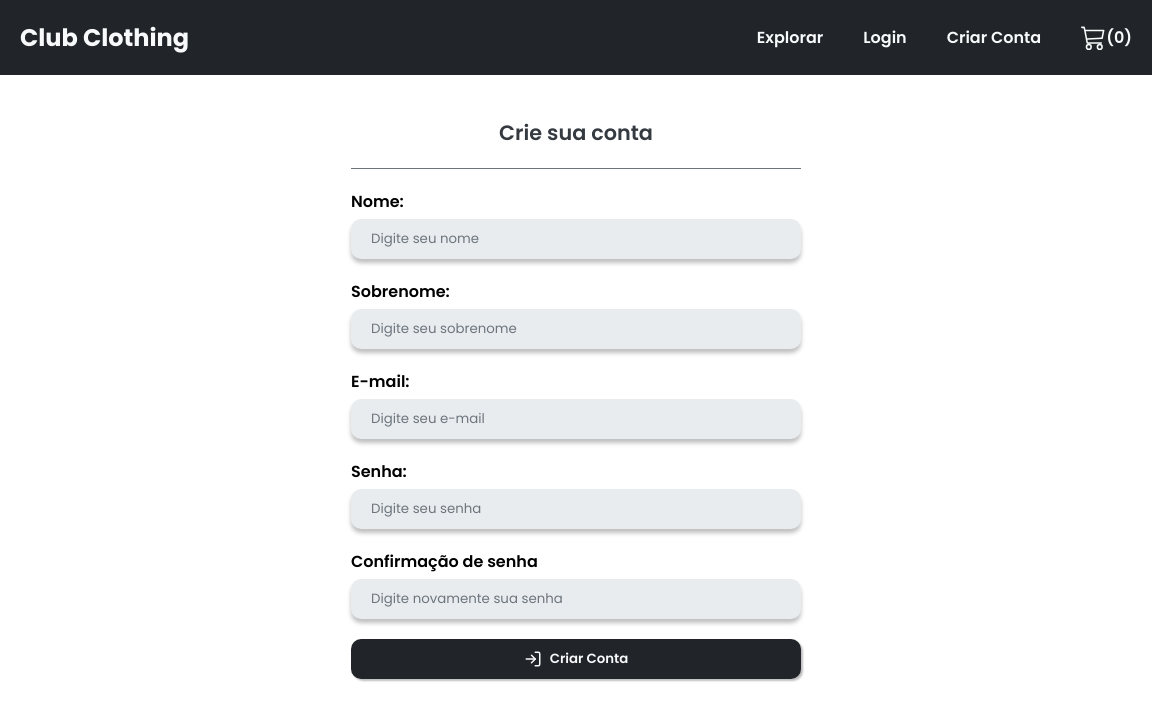
Sign Up › should show errors when password has less than 6 characteres
This screenshot has width=1152, height=720.
Type "123" into the password field with placeholder "Digite seu senha" at [576, 508], box x1=351 y1=488 x2=801 y2=528
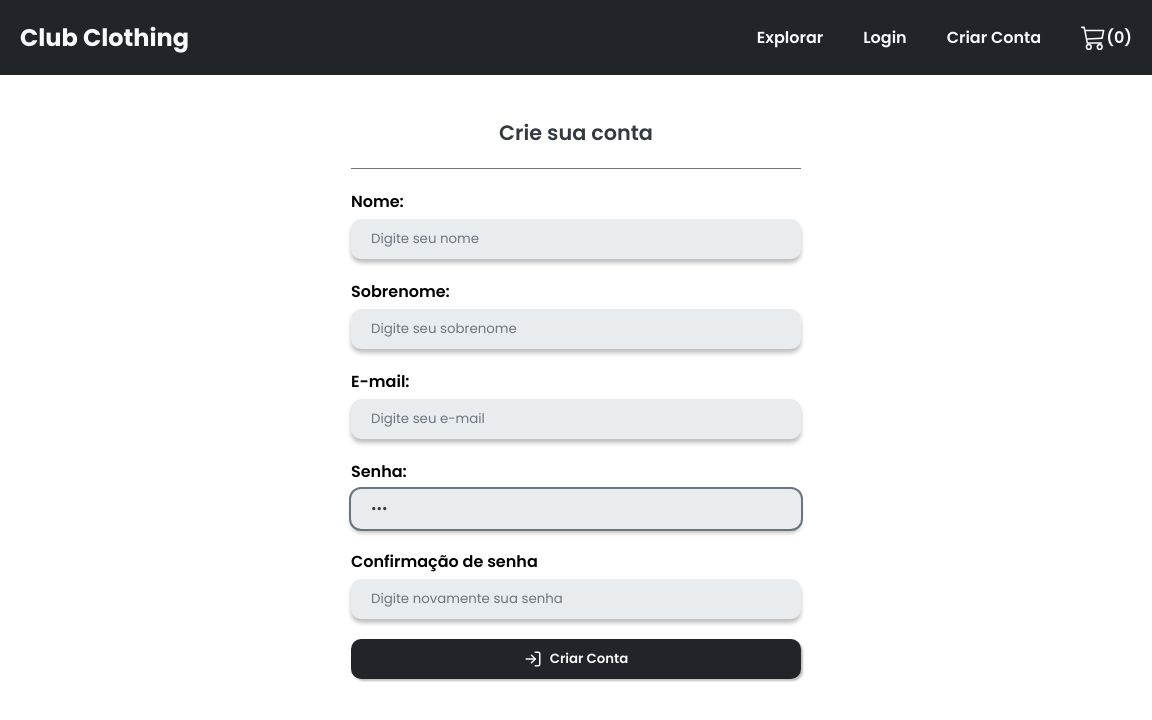
Type "123" into the password field with placeholder "Digite novamente sua senha" at [576, 598], box x1=351 y1=578 x2=801 y2=618
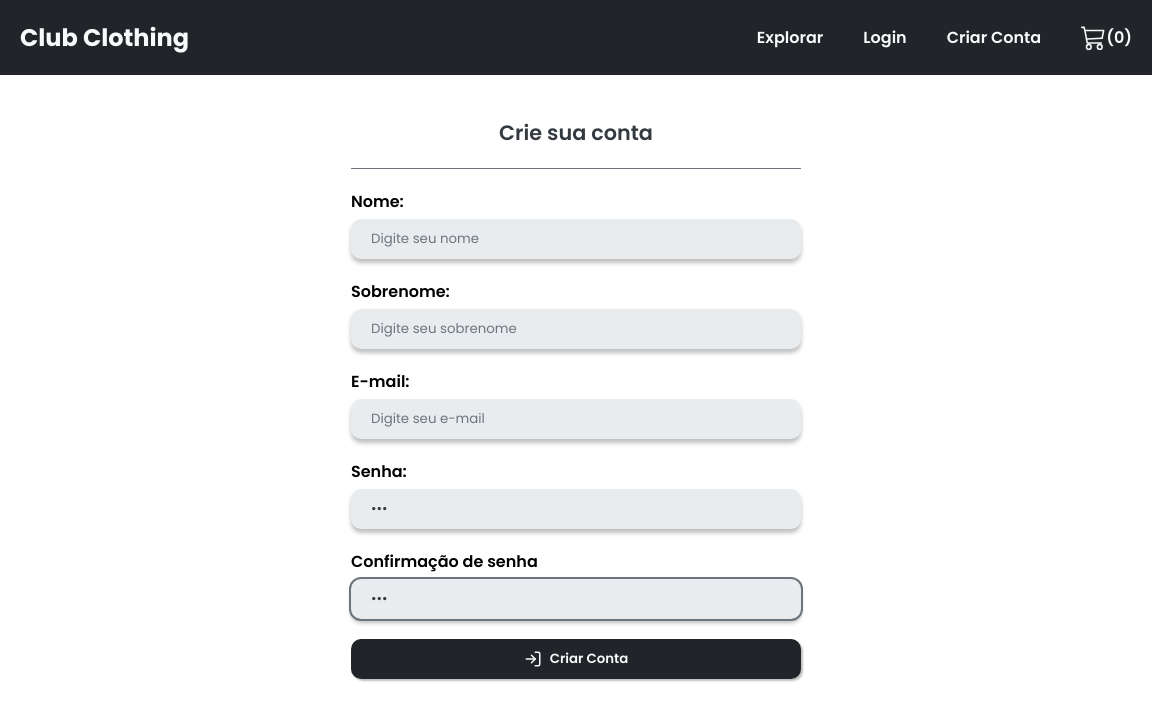
Click the button "Criar Conta" at [576, 658], box x1=351 y1=638 x2=801 y2=678
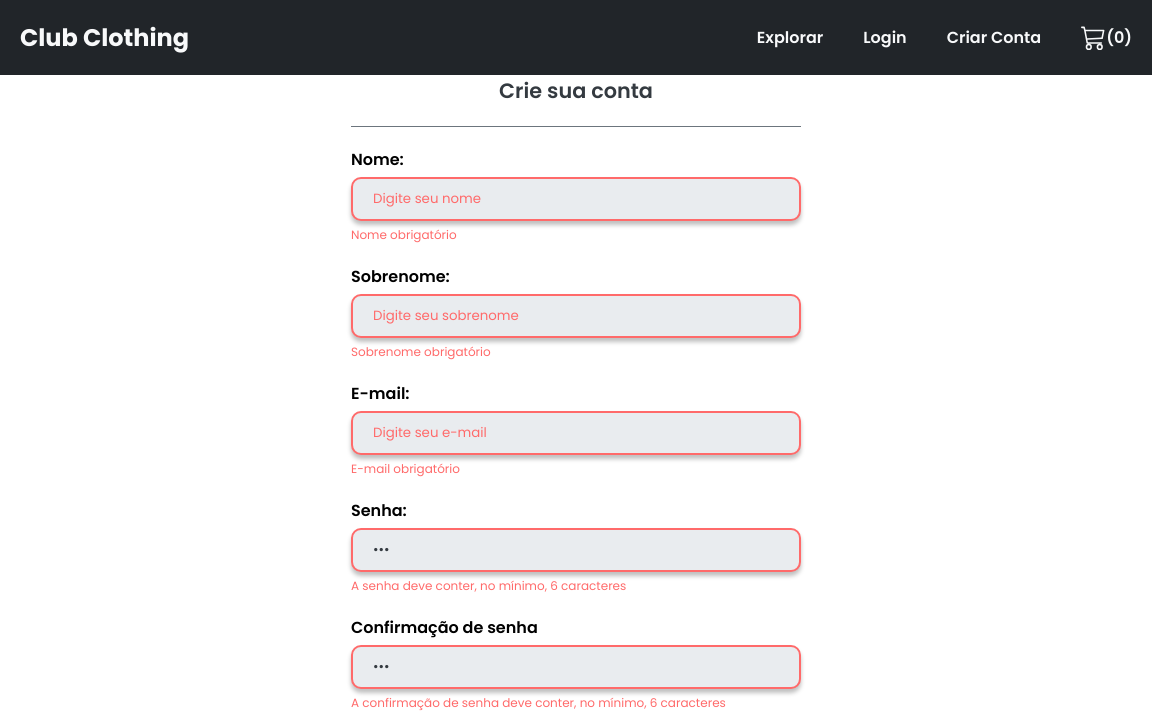
expect the text "A senha deve conter, no mínimo, 6 caracteres" is shown: met, box x1=351 y1=577 x2=626 y2=594
expect the text "A confirmação de senha deve conter, no mínimo, 6 caracteres" is shown: met, box x1=351 y1=694 x2=726 y2=711
